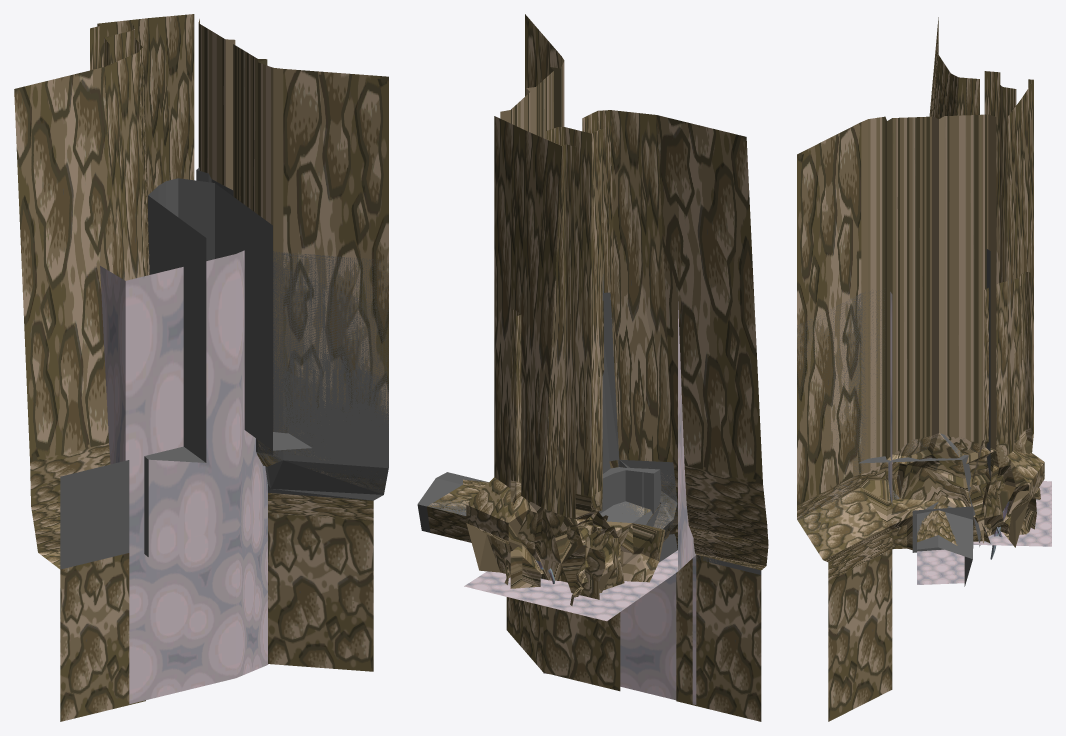
Rendered from jin_09_bake.dae.
3 renders of one model, left to right at view 1: azimuth 30°, elevation 25°; view 2: azimuth 150°, elevation 25°; view 3: azimuth 270°, elevation 25°, orthographic. The views are drawn at different scales.
Visible parts, largest first — view 1: S_iwa03, S_iwa08, a_gawa01, a_gawa02, pPlane8_q00000, a_gawa03, S_iwa06, a_gawa05, S_iwa07; view 2: S_iwa08, S_iwa06, S_iwa03, S_iwa07, pPlane8_q00000, a_gawa04, S_iwa010, a_gawa03, a_gawa01, a_gawa02, S_iwa09; view 3: S_iwa03, S_iwa010, S_iwa06, a_gawa02, S_iwa07, pPlane8_q00000, S_iwa08, a_gawa01, a_gawa03, e_bero.
Part boxes in pixels (bbox=[...]): S_iwa03: bbox=[198, 19, 388, 671]; S_iwa08: bbox=[14, 38, 149, 721]; a_gawa01: bbox=[100, 250, 267, 552]; a_gawa02: bbox=[196, 167, 388, 500]; pPlane8_q00000: bbox=[129, 513, 268, 704]; a_gawa03: bbox=[144, 178, 311, 556]; S_iwa06: bbox=[90, 14, 194, 196]; a_gawa05: bbox=[60, 460, 129, 569]; S_iwa07: bbox=[104, 23, 134, 66]; S_iwa08: bbox=[582, 110, 768, 721]; S_iwa06: bbox=[466, 116, 605, 599]; S_iwa03: bbox=[427, 14, 620, 691]; S_iwa07: bbox=[546, 127, 608, 545]; pPlane8_q00000: bbox=[464, 550, 696, 704]; a_gawa04: bbox=[600, 292, 677, 542]; S_iwa010: bbox=[510, 309, 540, 588]; a_gawa03: bbox=[584, 274, 677, 562]; a_gawa01: bbox=[473, 301, 696, 620]; a_gawa02: bbox=[417, 472, 488, 532]; S_iwa09: bbox=[570, 526, 624, 605]; S_iwa03: bbox=[797, 114, 996, 721]; S_iwa010: bbox=[967, 271, 1036, 543]; S_iwa06: bbox=[1002, 79, 1044, 547]; a_gawa02: bbox=[797, 249, 991, 586]; S_iwa07: bbox=[984, 71, 1016, 283]; pPlane8_q00000: bbox=[917, 481, 1051, 584]; S_iwa08: bbox=[929, 17, 979, 118]; a_gawa01: bbox=[888, 292, 1051, 584]; a_gawa03: bbox=[858, 455, 980, 546]; e_bero: bbox=[912, 506, 973, 552].
Size of the model in its own units: 65.08 by 121 by 48.98.
